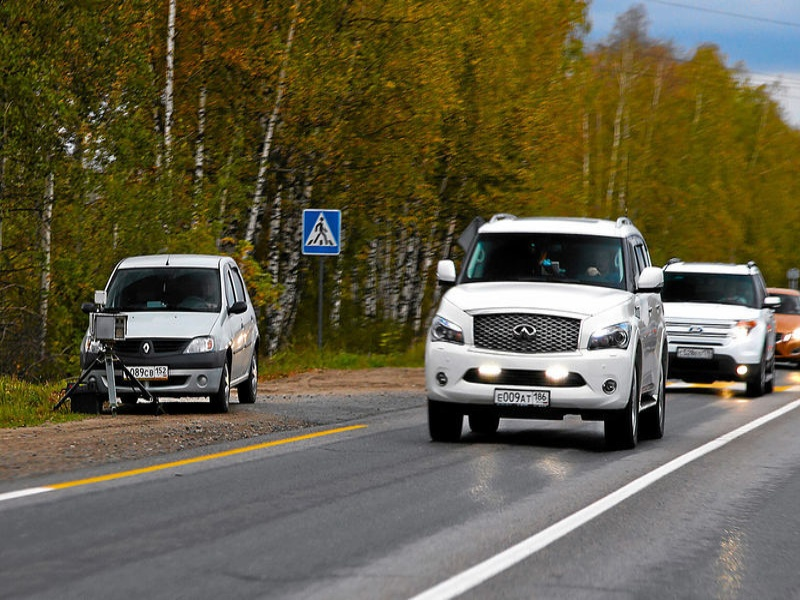car: (423, 212, 669, 451), (79, 252, 261, 416), (660, 256, 781, 397), (765, 285, 800, 369)
person: (592, 247, 611, 274), (199, 273, 217, 301)
plate: (495, 388, 550, 406), (123, 365, 167, 378), (676, 347, 712, 358)
